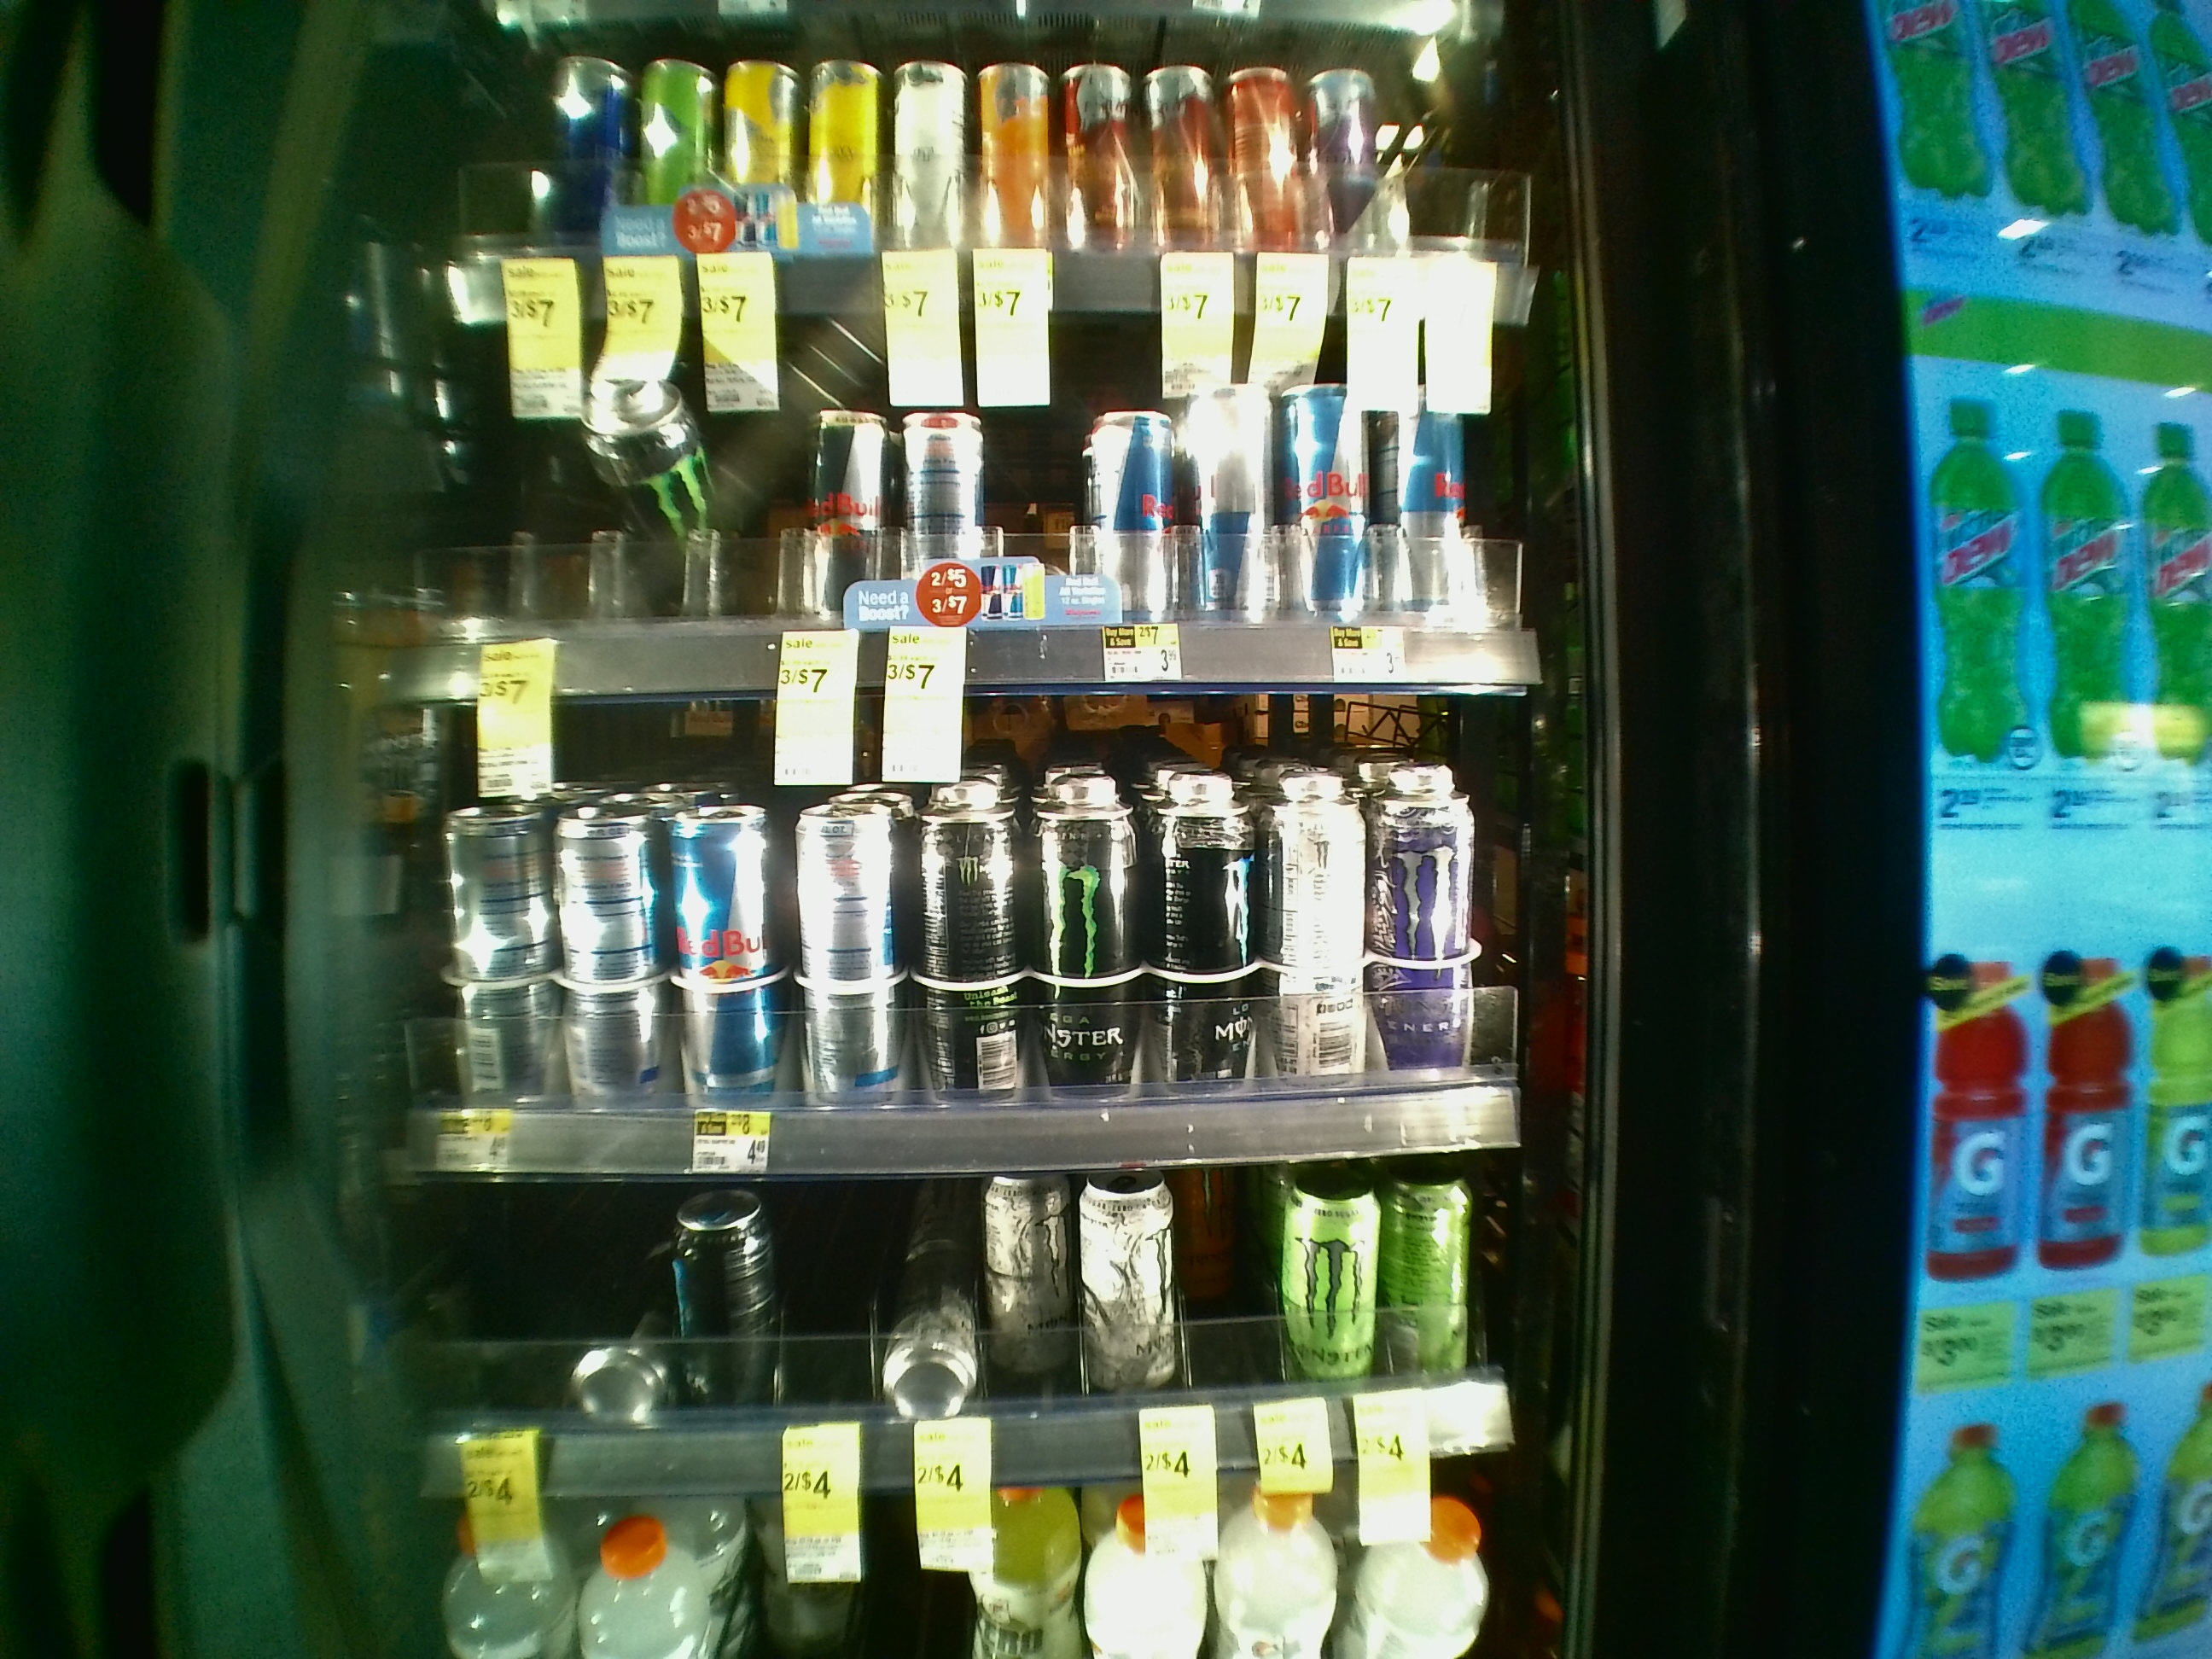shelf: (343, 650, 1620, 1147), (352, 275, 1613, 676), (336, 1150, 1625, 1464)
